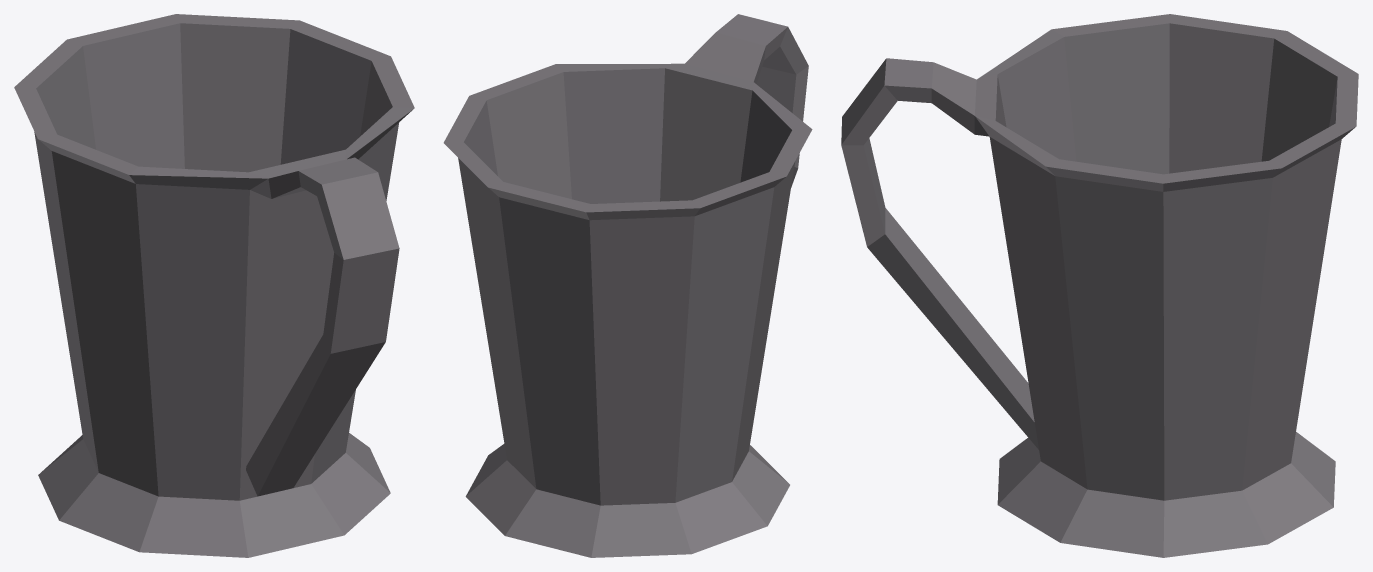
The model's file is tablecupmetal01.gltf.
3 renders of one model, left to right at view 1: azimuth 30°, elevation 25°; view 2: azimuth 150°, elevation 25°; view 3: azimuth 270°, elevation 25°, orthographic. The views are drawn at different scales.
Visible parts, largest first — view 1: Cylinder.001; view 2: Cylinder.001; view 3: Cylinder.001.
Part boxes in pixels (x1,y1,x2,y2): Cylinder.001: [14, 14, 414, 557]; Cylinder.001: [443, 14, 812, 557]; Cylinder.001: [841, 14, 1358, 557].
Bounding box in the file's own units: 0.1038 × 0.1166 × 0.1338.
1 material, 1 textured.
